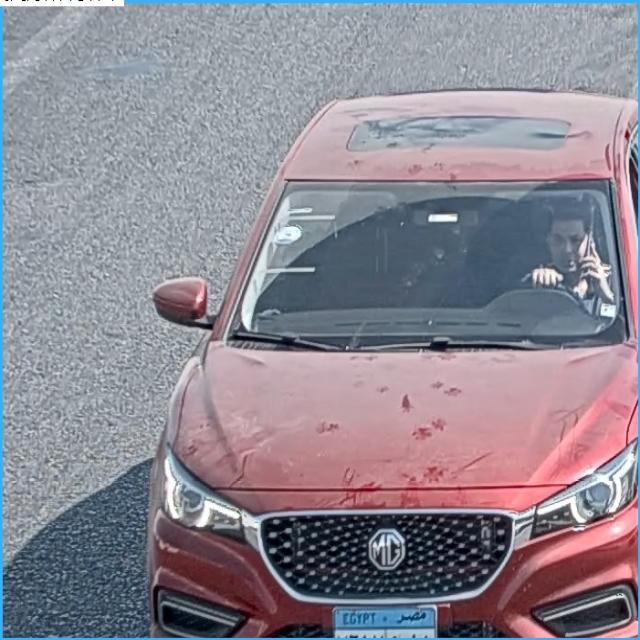windshield: (236, 180, 630, 344)
